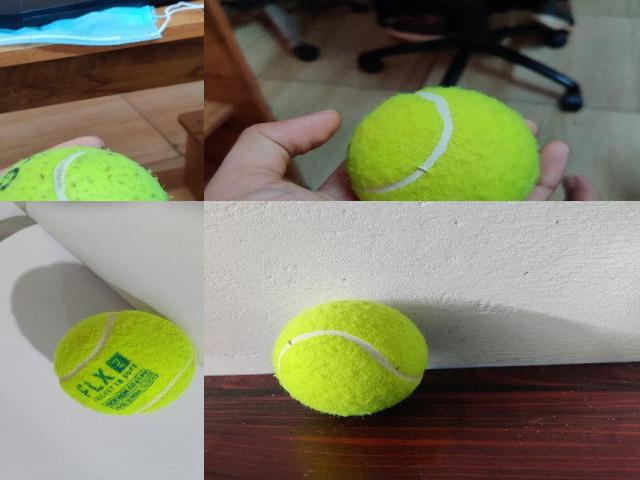tennis-ball: (347, 88, 539, 200), (272, 300, 429, 416), (52, 309, 199, 415), (0, 146, 174, 200)
